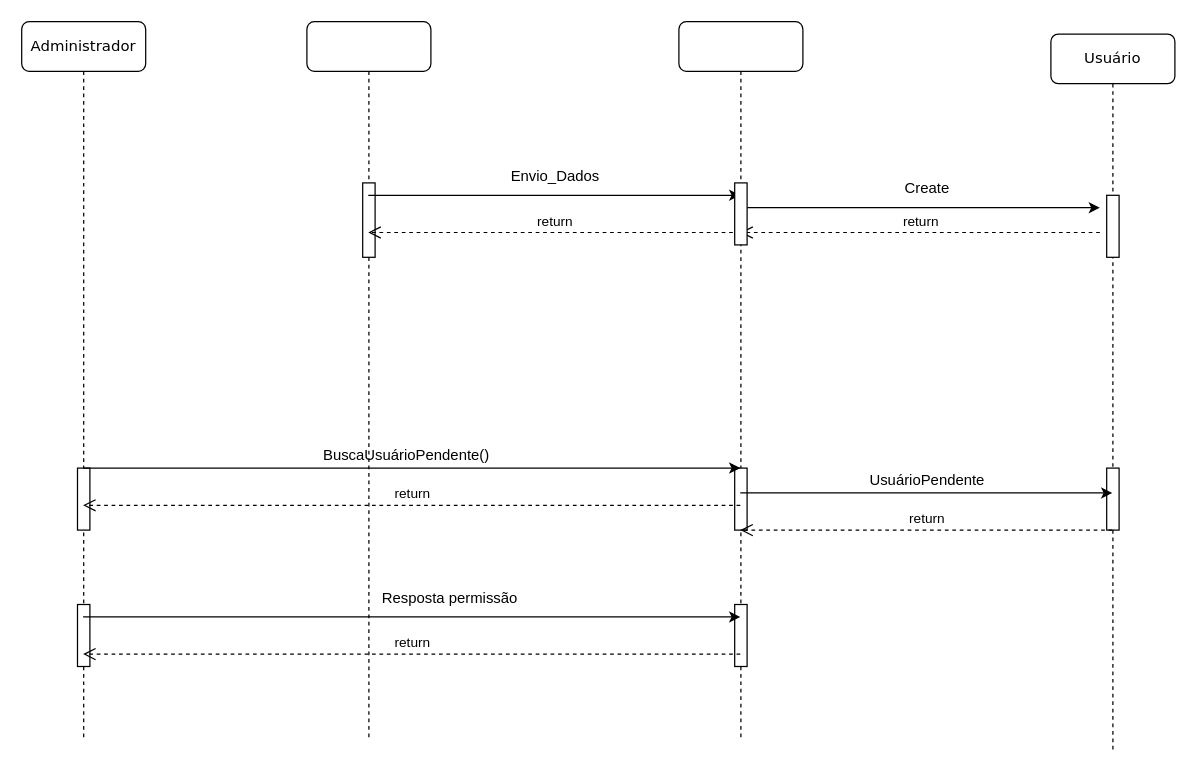
The diagram is 1197 pixels wide and 775 high, and some of its shapes have lost their labels. The box of each missing label's shape, as (x1, y1, x2, y2) in pixels:
Pessoa: (306, 20, 431, 741)
Sistemas: (678, 20, 803, 741)
